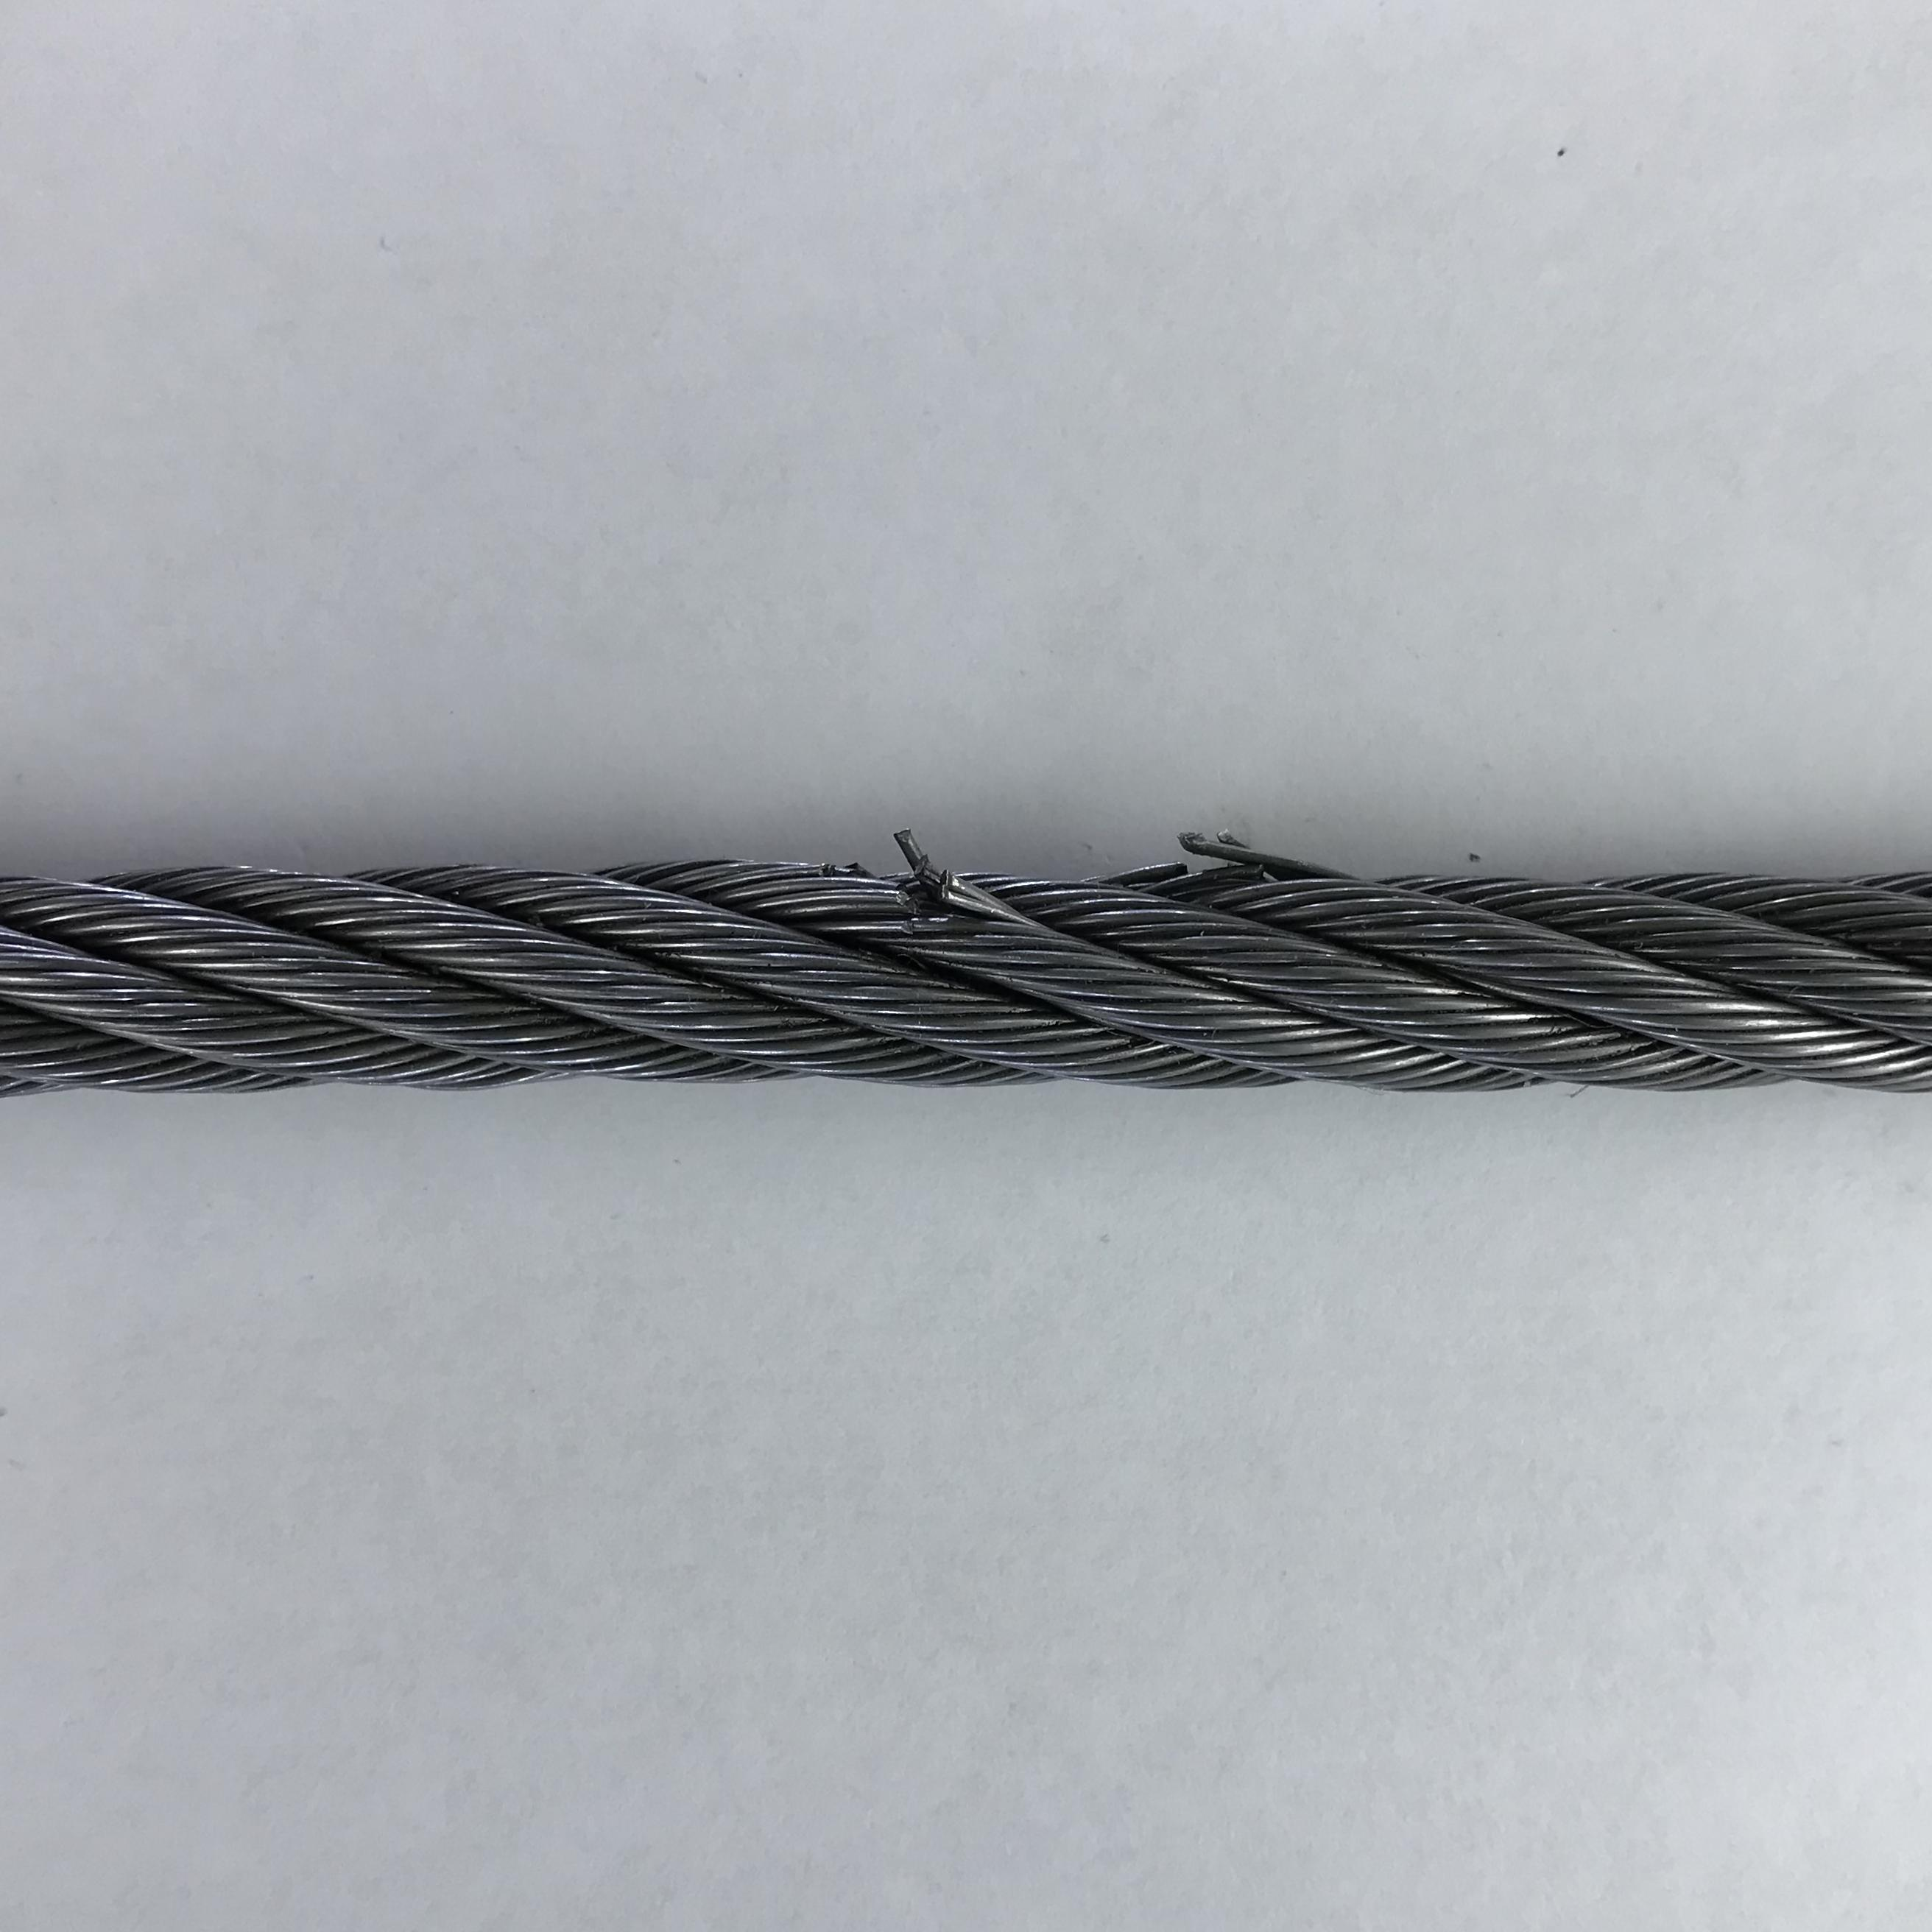break: (1093, 816, 1304, 908), (867, 821, 1028, 938)
